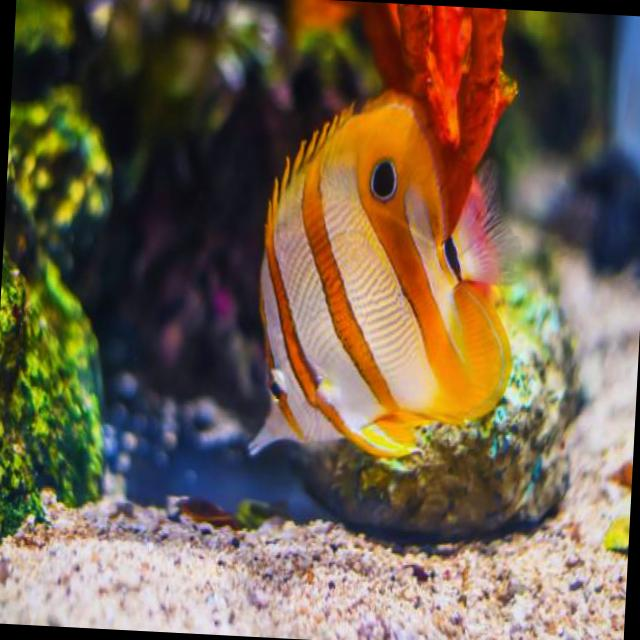ButterflyFish: (245, 87, 524, 480)
